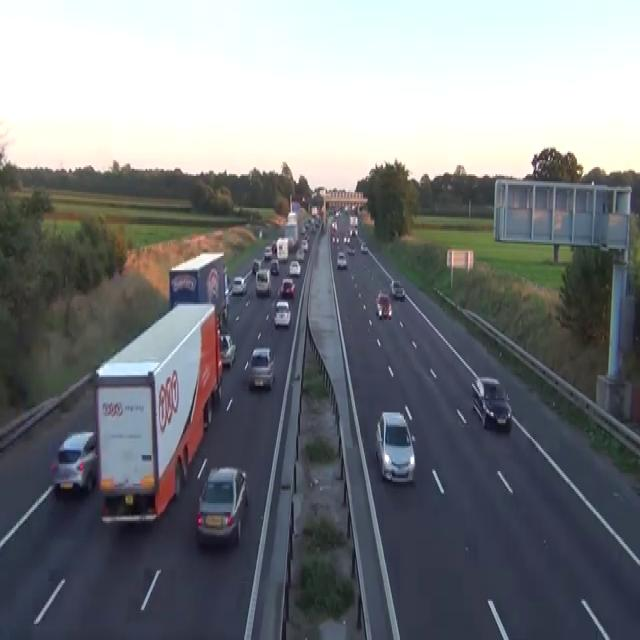Car: (195, 466, 248, 548), (50, 430, 97, 494), (374, 411, 415, 484), (471, 375, 512, 432), (248, 347, 275, 389), (219, 332, 236, 368), (211, 357, 222, 402), (375, 290, 392, 318), (273, 301, 291, 327), (255, 269, 271, 295), (279, 277, 295, 297), (203, 396, 212, 431), (231, 276, 247, 295), (390, 279, 405, 299), (336, 250, 347, 268), (289, 260, 301, 276), (269, 258, 279, 274), (394, 286, 405, 300), (264, 243, 272, 260), (252, 258, 260, 274), (296, 247, 304, 261), (224, 286, 229, 306), (360, 240, 368, 252), (301, 238, 308, 251), (313, 215, 320, 228), (226, 276, 231, 294), (232, 204, 241, 213), (347, 244, 355, 254), (343, 233, 350, 243), (332, 233, 339, 243), (300, 224, 306, 235), (331, 221, 337, 231), (350, 228, 357, 236), (271, 242, 276, 252), (245, 297, 250, 306), (258, 230, 262, 238)
Truck: (93, 300, 222, 524), (168, 251, 229, 329), (284, 212, 298, 250), (276, 236, 288, 262)
